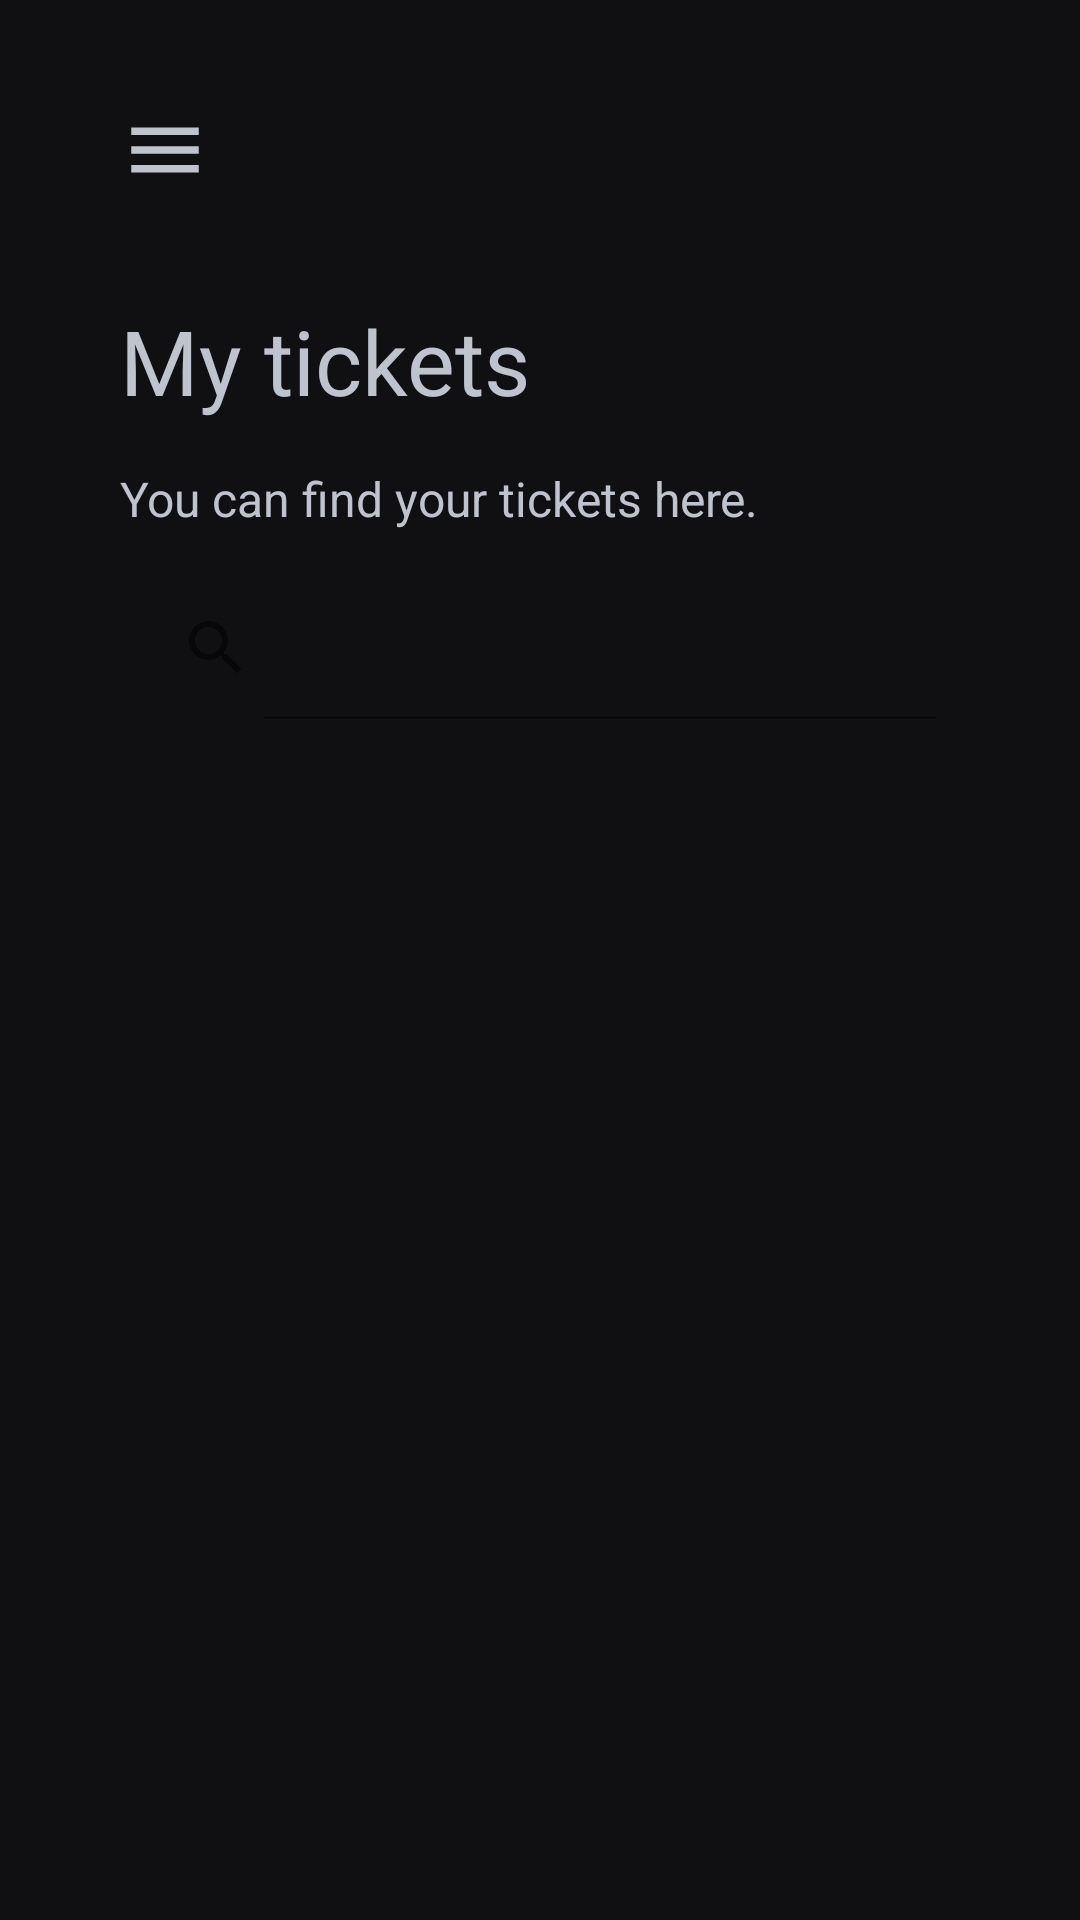

Locate icon controls on the screen. Image size 1080 × 1920, boxes as (x1, y1, x2, y2).
menu: (131, 127, 199, 173)
